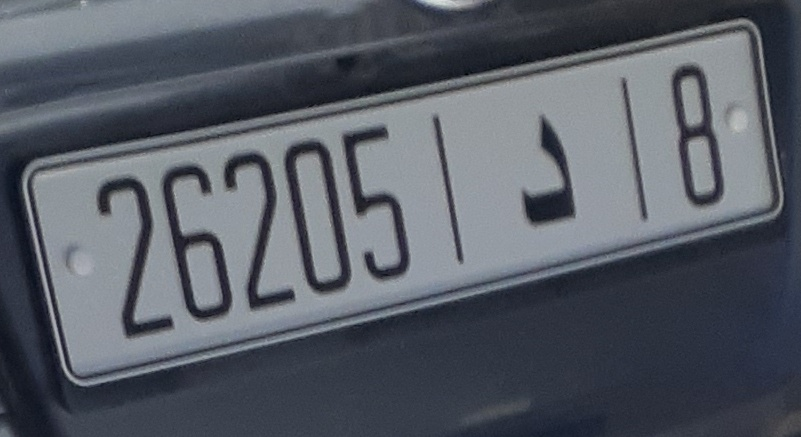0: (279, 135, 358, 292)
2: (90, 174, 177, 341), (221, 142, 299, 311)
5: (338, 120, 416, 284)
6: (159, 156, 237, 330)
8: (666, 60, 742, 210)
d: (494, 100, 597, 238)
